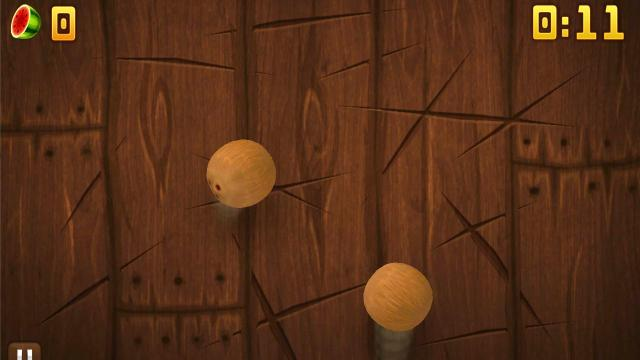fruit: (202, 135, 280, 209), (362, 260, 434, 332)
